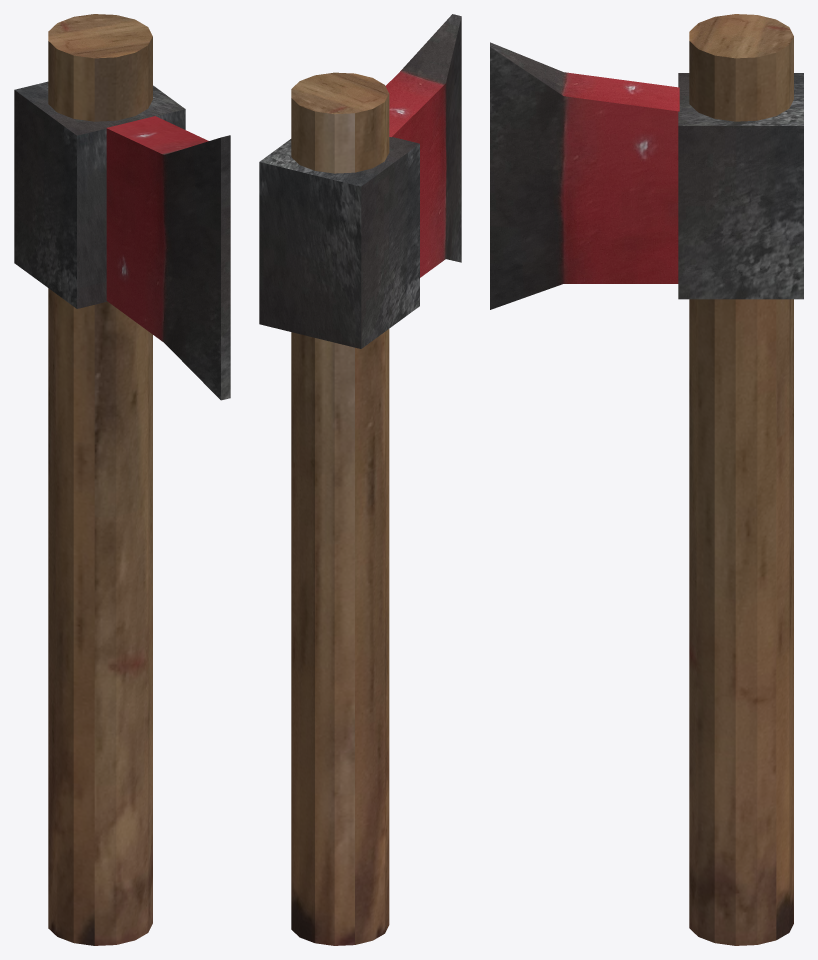
File: axe.glb
3 renders of one model, left to right at view 1: azimuth 30°, elevation 25°; view 2: azimuth 150°, elevation 25°; view 3: azimuth 270°, elevation 25°, orthographic. The views are drawn at different scales.
Visible parts, largest first — view 1: Cube; view 2: Cube; view 3: Cube.
Part boxes in pixels (x1=…): Cube: x1=14, y1=14, x2=230, y2=945; Cube: x1=259, y1=14, x2=461, y2=945; Cube: x1=490, y1=14, x2=803, y2=945.
Size of the model in its own units: 0.4818 by 3.76 by 1.2.
Materials: 1 (1 with a texture image).
